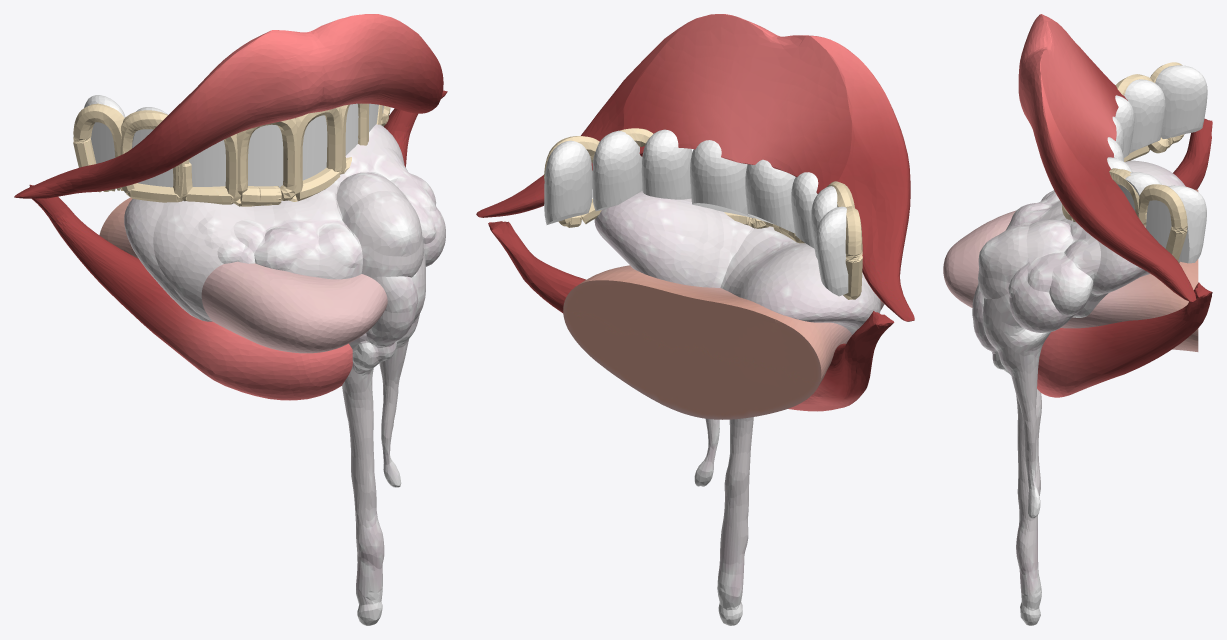
File: mouth1.OBJ
3 renders of one model, left to right at view 1: azimuth 30°, elevation 25°; view 2: azimuth 150°, elevation 25°; view 3: azimuth 270°, elevation 25°, orthographic. The views are drawn at different scales.
Visible parts, largest first — view 1: Group1, Group3, Group4, Group5, Group2; view 2: Group1, Group6, Group3, Group2, Group4, Group5; view 3: Group1, Group3, Group2, Group4, Group5.
Boxes of the visible parts, <box> form: Group1: <box>14,14,447,400</box>; Group3: <box>124,124,445,625</box>; Group4: <box>99,197,387,353</box>; Group5: <box>73,103,390,206</box>; Group2: <box>84,95,383,187</box>; Group1: <box>476,14,914,411</box>; Group6: <box>563,280,821,419</box>; Group3: <box>594,191,880,625</box>; Group2: <box>544,129,848,296</box>; Group4: <box>579,265,884,385</box>; Group5: <box>544,128,862,299</box>; Group1: <box>1018,14,1212,397</box>; Group3: <box>972,160,1185,625</box>; Group2: <box>1107,65,1207,263</box>; Group4: <box>943,189,1198,351</box>; Group5: <box>1062,62,1187,263</box>.
Bounding box in the file's own units: 5.15 × 6.93 × 3.
